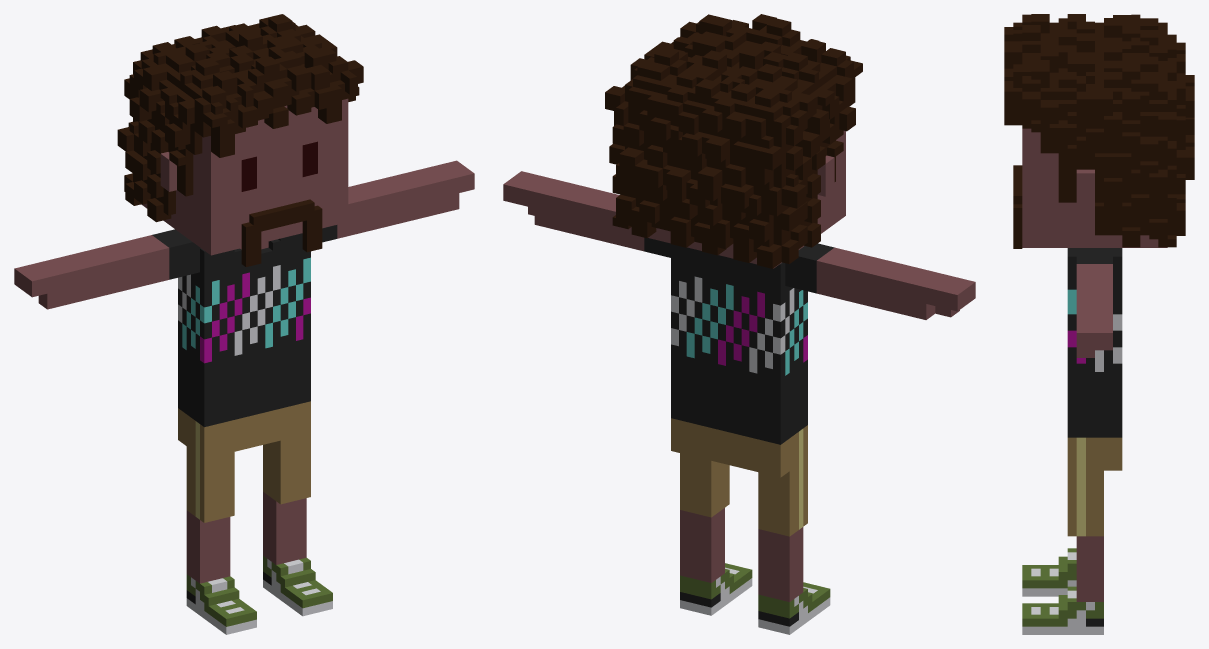
The model's file is meebit_13186_t_solid.glb.
The picture shows the model from 3 angles, left to right: view 1: azimuth 30°, elevation 25°; view 2: azimuth 150°, elevation 25°; view 3: azimuth 270°, elevation 25°; orthographic projection. The views are drawn at different scales.
Parts seen in each view (by area): view 1: Default; view 2: Default; view 3: Default.
Part boxes in pixels (x1,y1,x2,y2): Default: (14, 14, 474, 634); Default: (503, 14, 975, 634); Default: (1004, 14, 1194, 634).
Bounding box in the file's own units: 58 × 70 × 21.
Materials: 1 (1 with a texture image).
